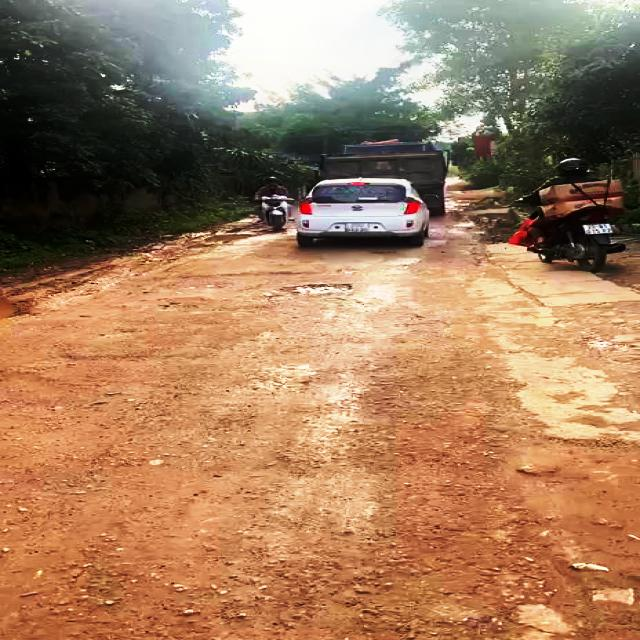pothole: (503, 434, 639, 640), (273, 282, 364, 298)
